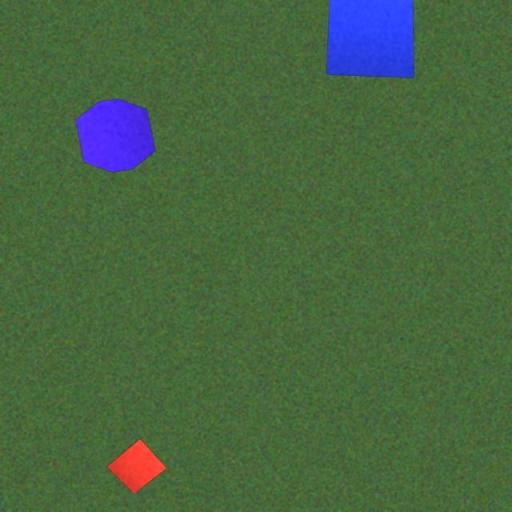BLUE_SQUARE: (325, 0, 415, 78)
RED_SQUARE: (106, 438, 167, 494)
